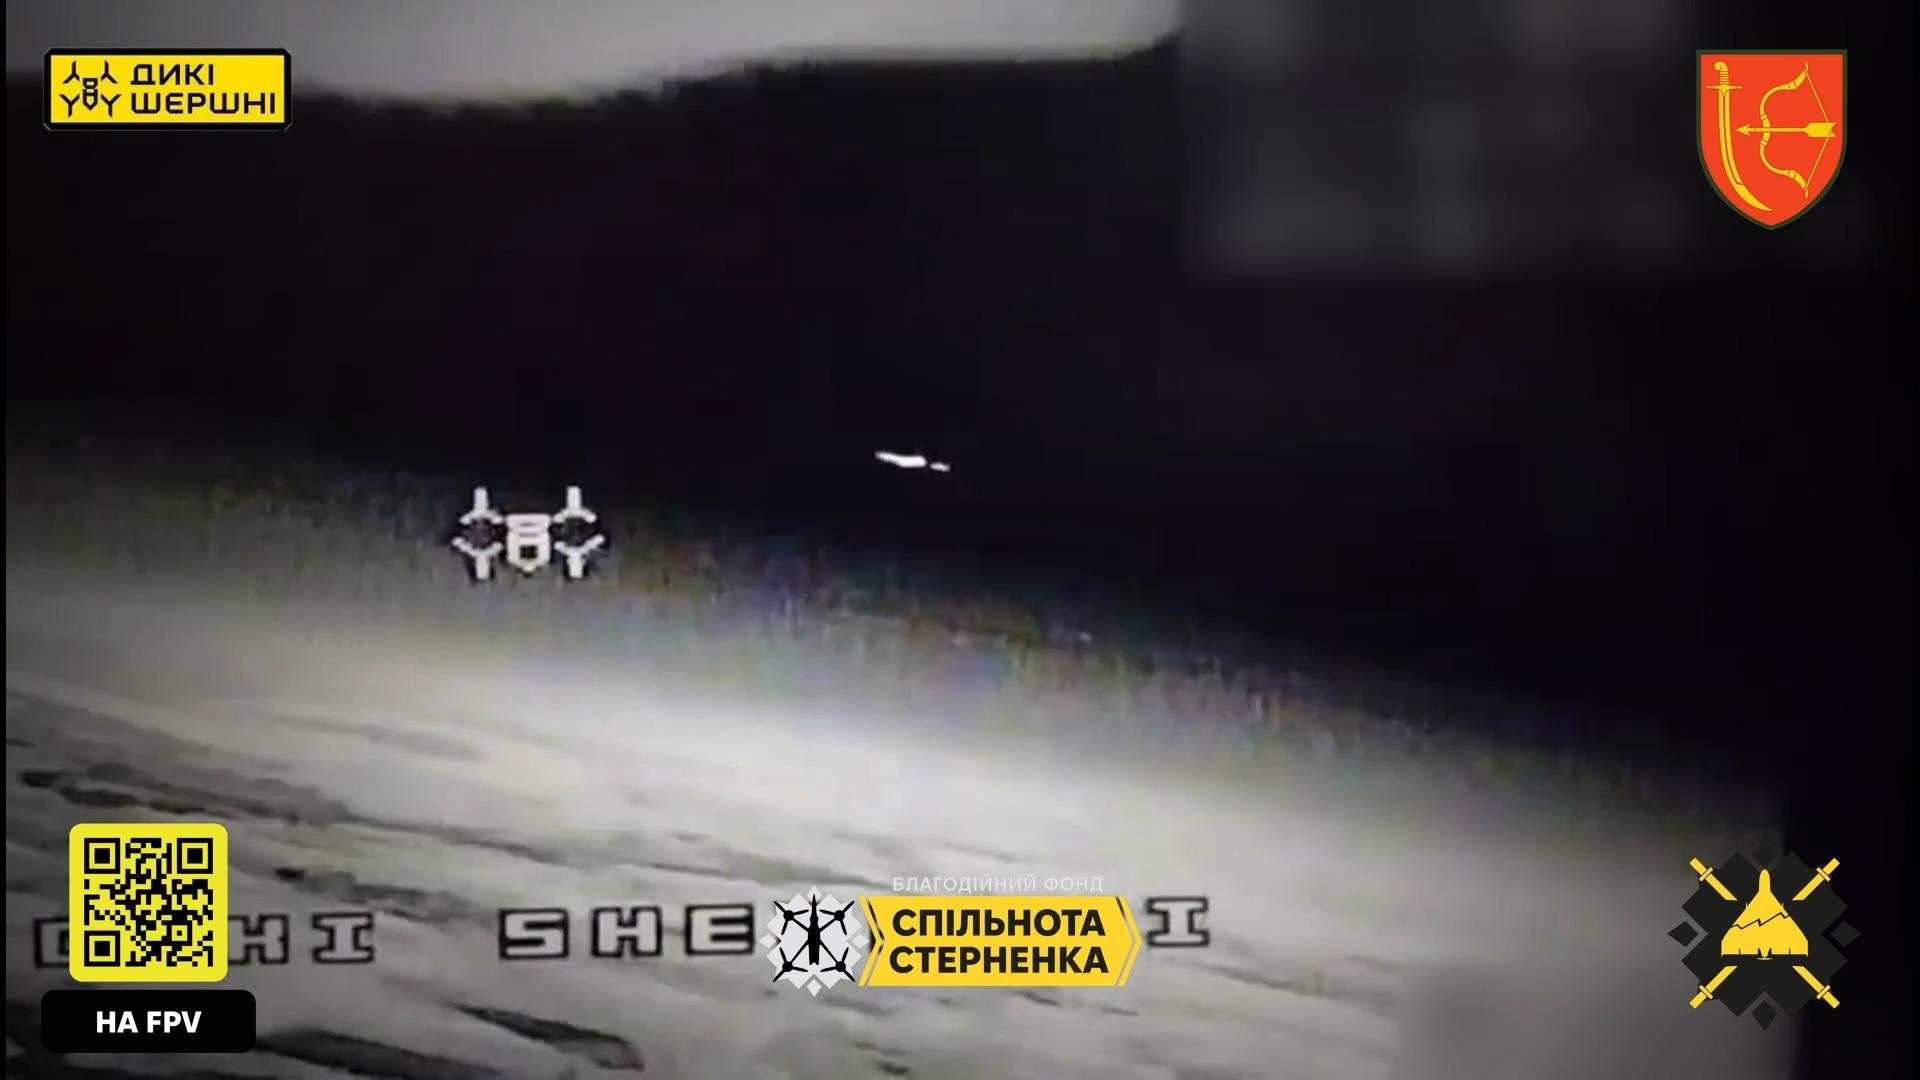Gerbera: (874, 448, 952, 472)
